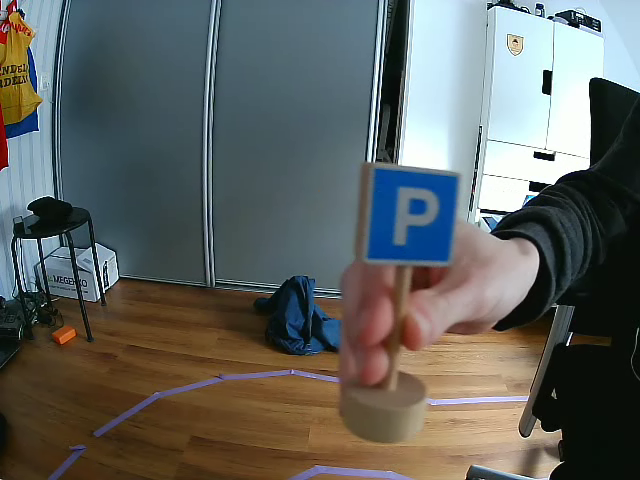parkeerbord: (359, 162, 460, 261)
